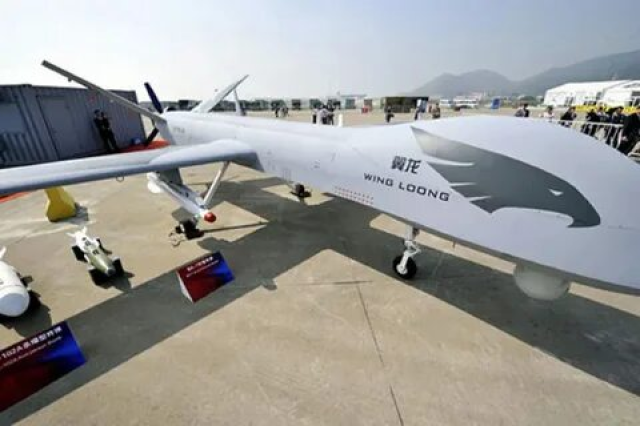military drone: (0, 59, 640, 302)
